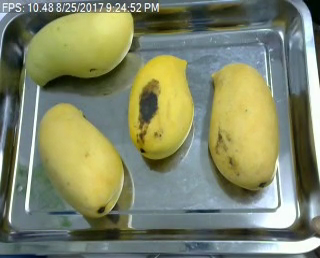Mango: (37, 100, 124, 219), (207, 62, 280, 191), (21, 5, 134, 84), (127, 56, 197, 160)
